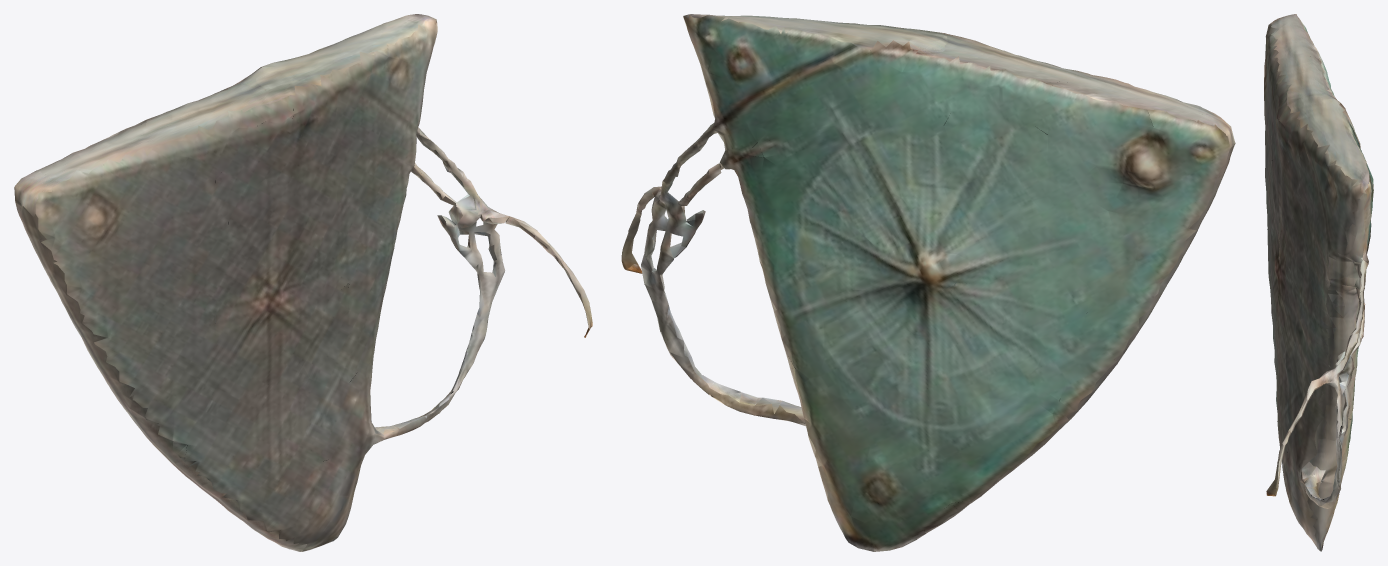
Rendered from 11_34_26_20_bronze-sundial-with-green-patina.glb.
The picture shows the model from 3 angles, left to right: view 1: azimuth 30°, elevation 25°; view 2: azimuth 150°, elevation 25°; view 3: azimuth 270°, elevation 25°; orthographic projection. The views are drawn at different scales.
Parts seen in each view (by area): view 1: world; view 2: world; view 3: world.
Boxes of the visible parts, x1,y1,x2,y2 form: world: (14, 14, 592, 551); world: (621, 14, 1235, 551); world: (1264, 14, 1373, 551).
Size of the model in its own units: 0.907 by 0.7417 by 0.1725.
Materials: 1 (1 with a texture image).
